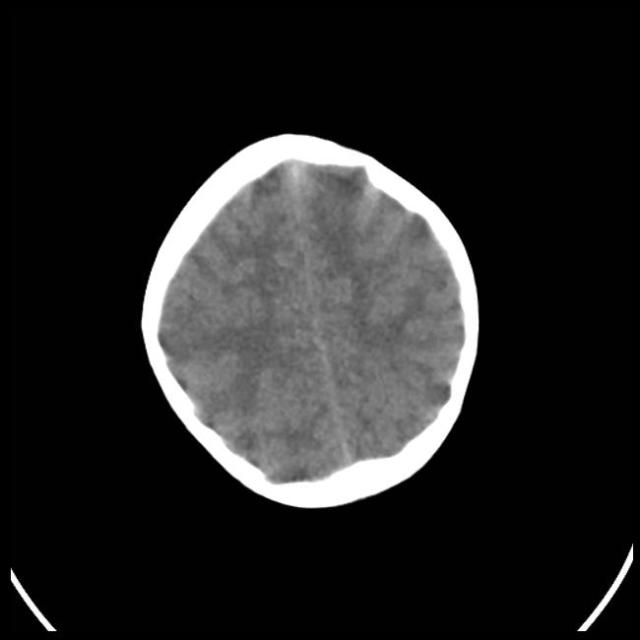lesion: (410, 268, 486, 426)
